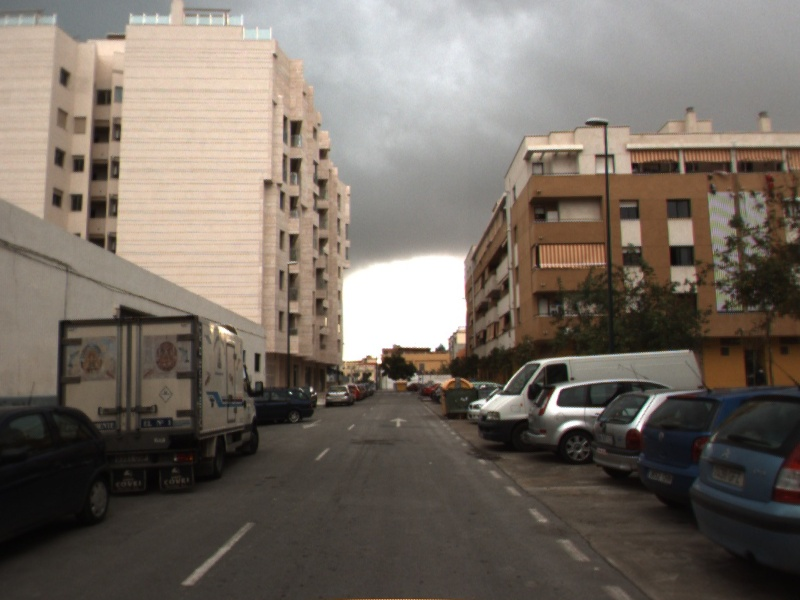STRAIGHT: (388, 415, 411, 429)
